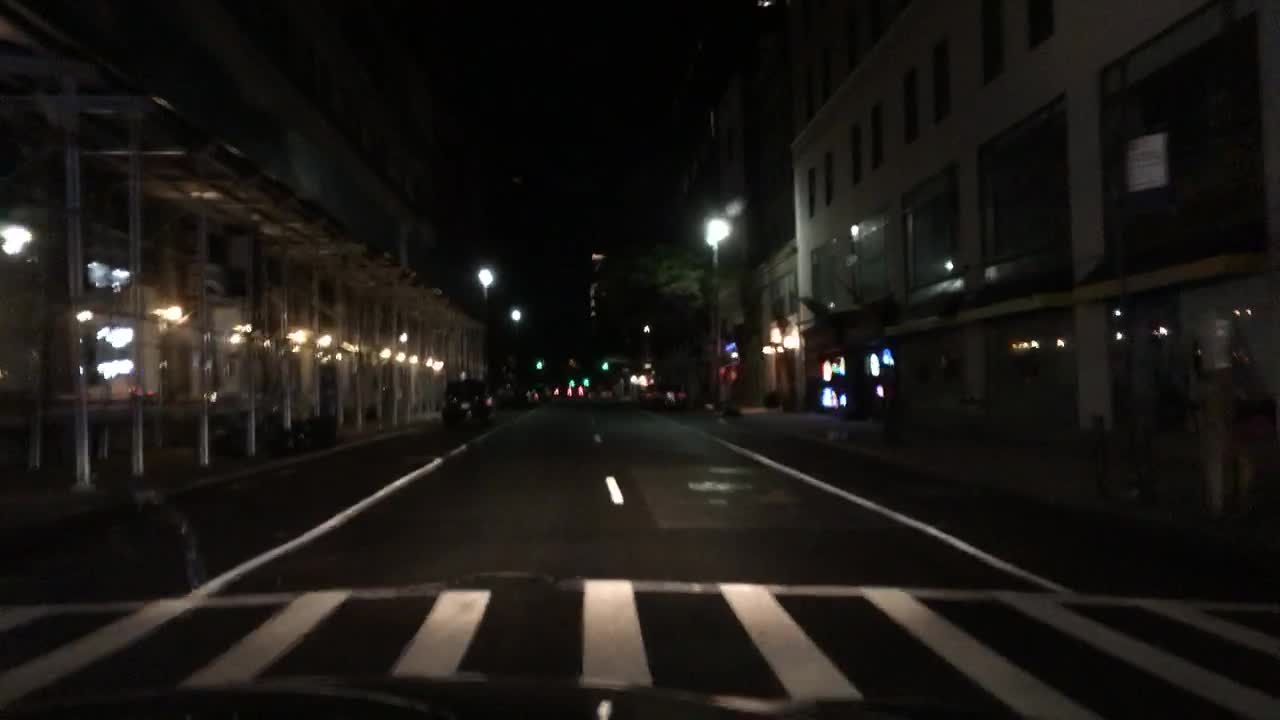car: (635, 382, 689, 407), (495, 386, 537, 406), (564, 386, 586, 399), (537, 387, 557, 401)
traffic light: (597, 356, 611, 371), (564, 375, 579, 388), (533, 356, 545, 370), (579, 375, 593, 386)
